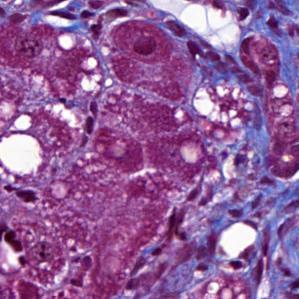ballooning: (191, 79, 255, 132)
